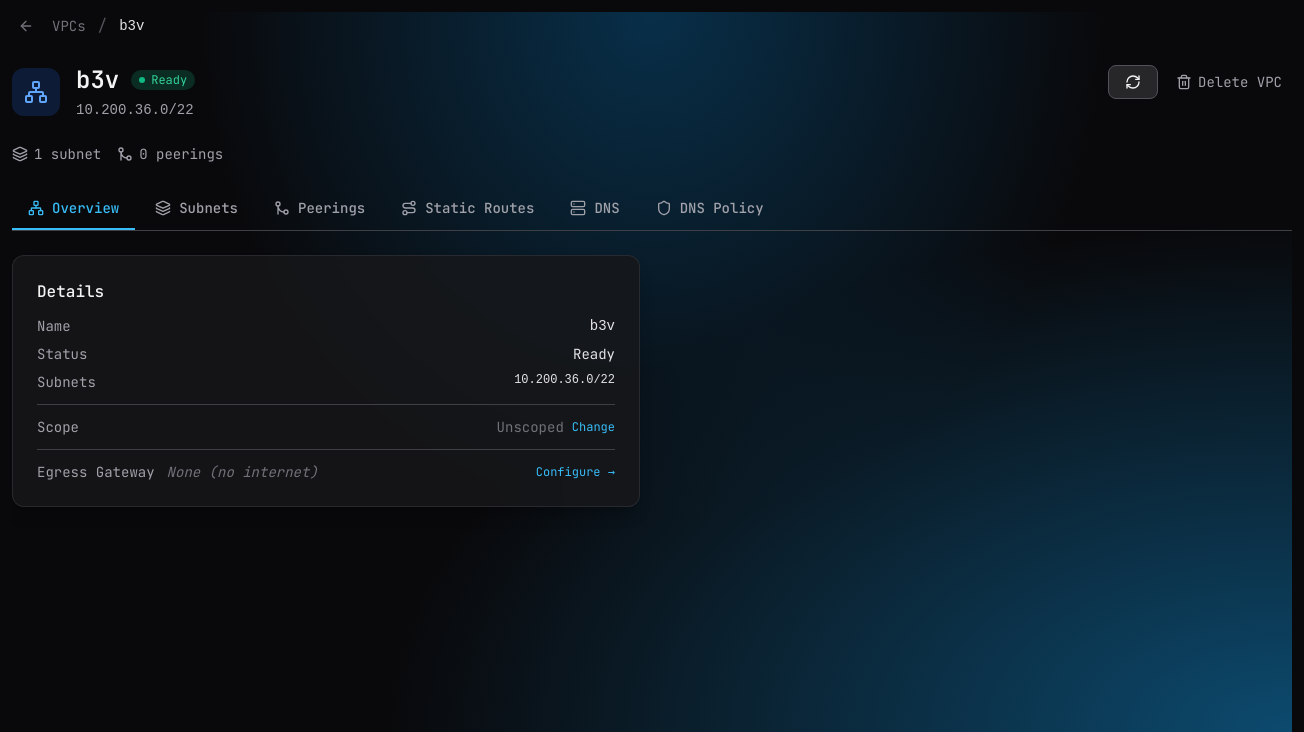
it: the two peerings that would build cleanly and carry nothing › allows a peering whose prefixes only look similar
The width and height of the screenshot is (1304, 732).
Click the button "Peerings": x=320, y=209 [258, 188, 381, 230]
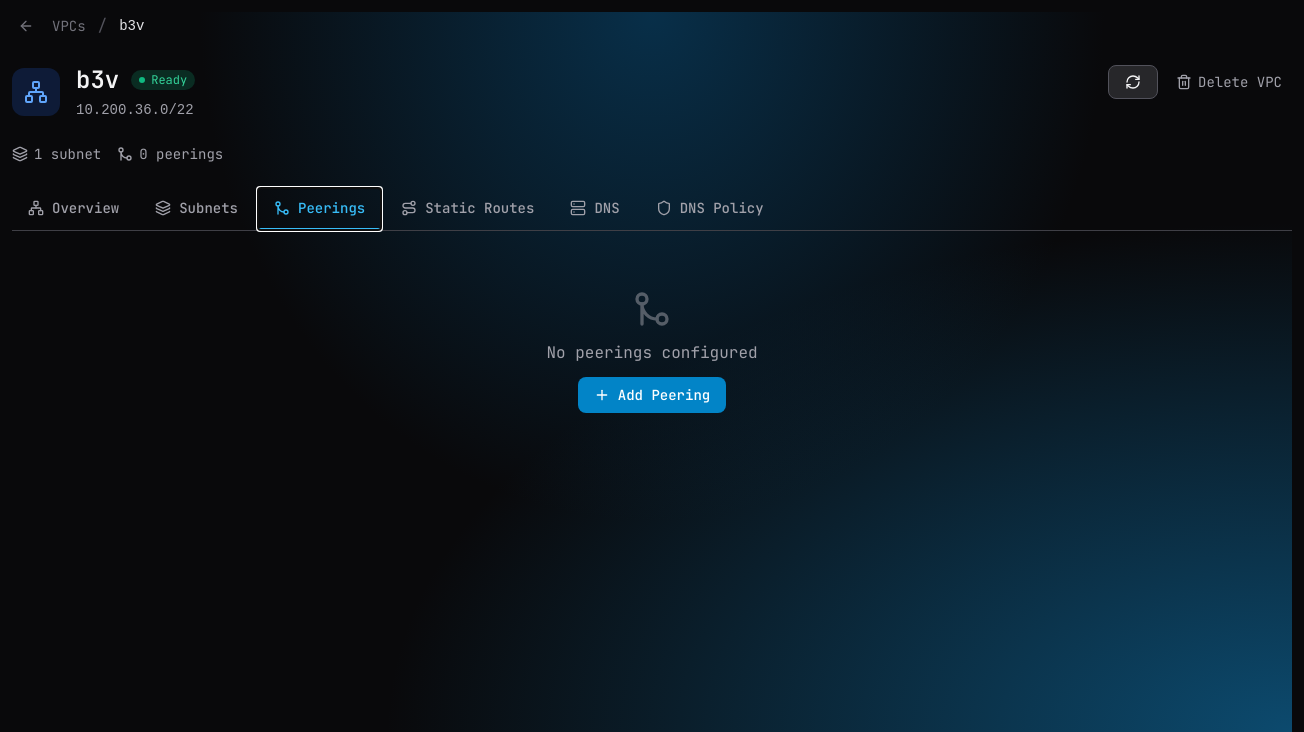
Click the button "Add Peering": x=652, y=395 [578, 377, 726, 413]
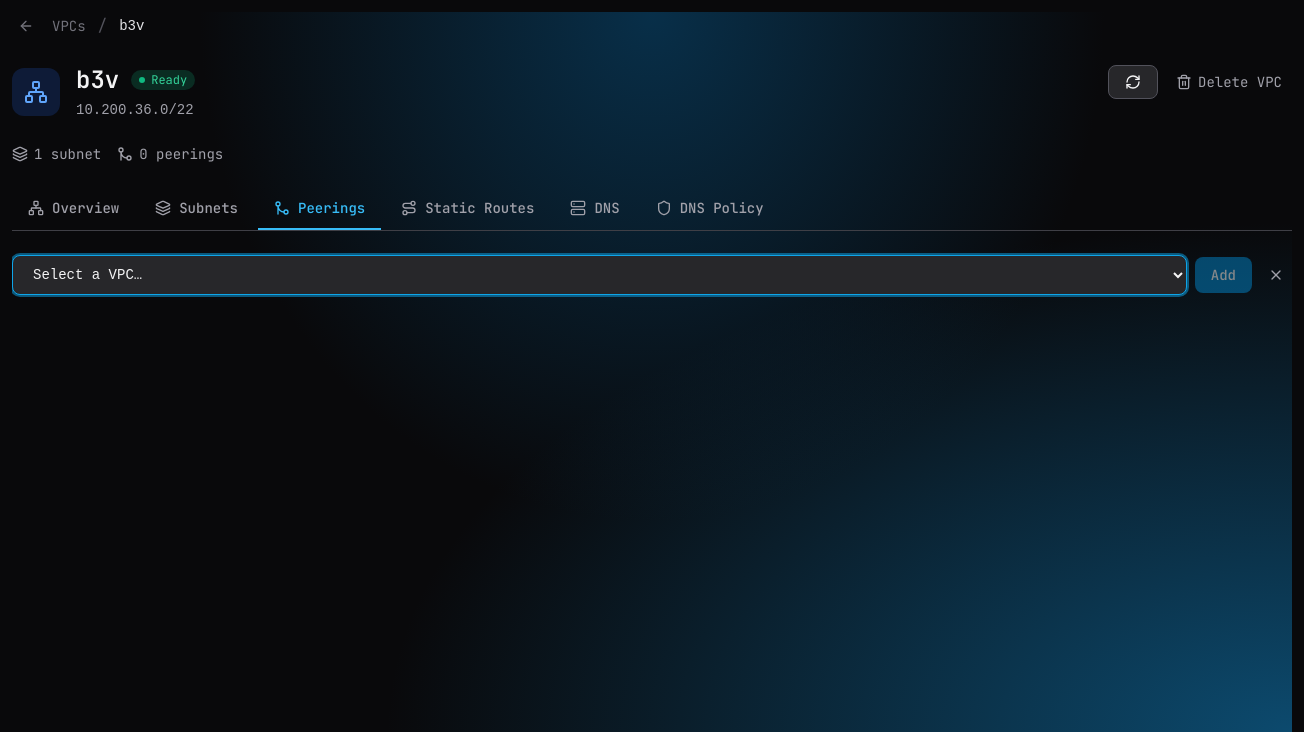
Select "b3w — 10.200.40.0/22" in the dropdown: x=599, y=275 [12, 255, 1187, 295]
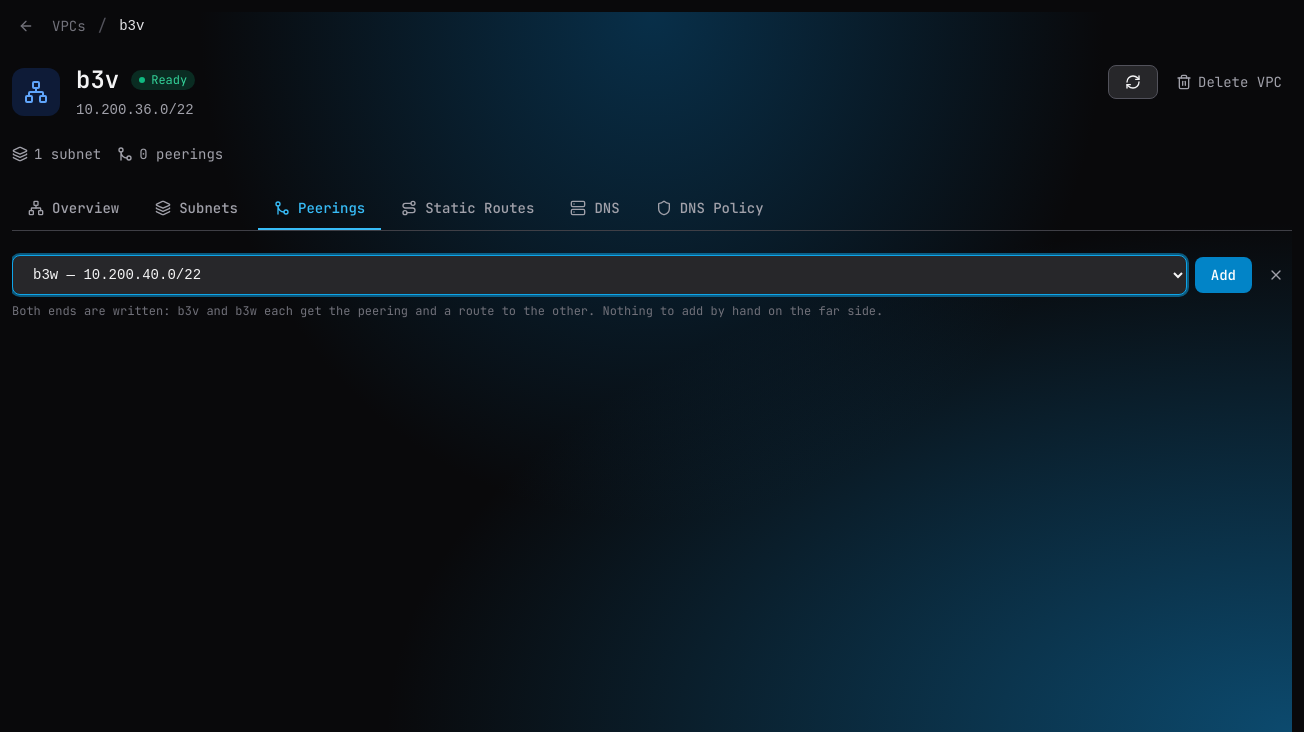
Check: the button "Add" is enabled, box [1195, 257, 1252, 293]
